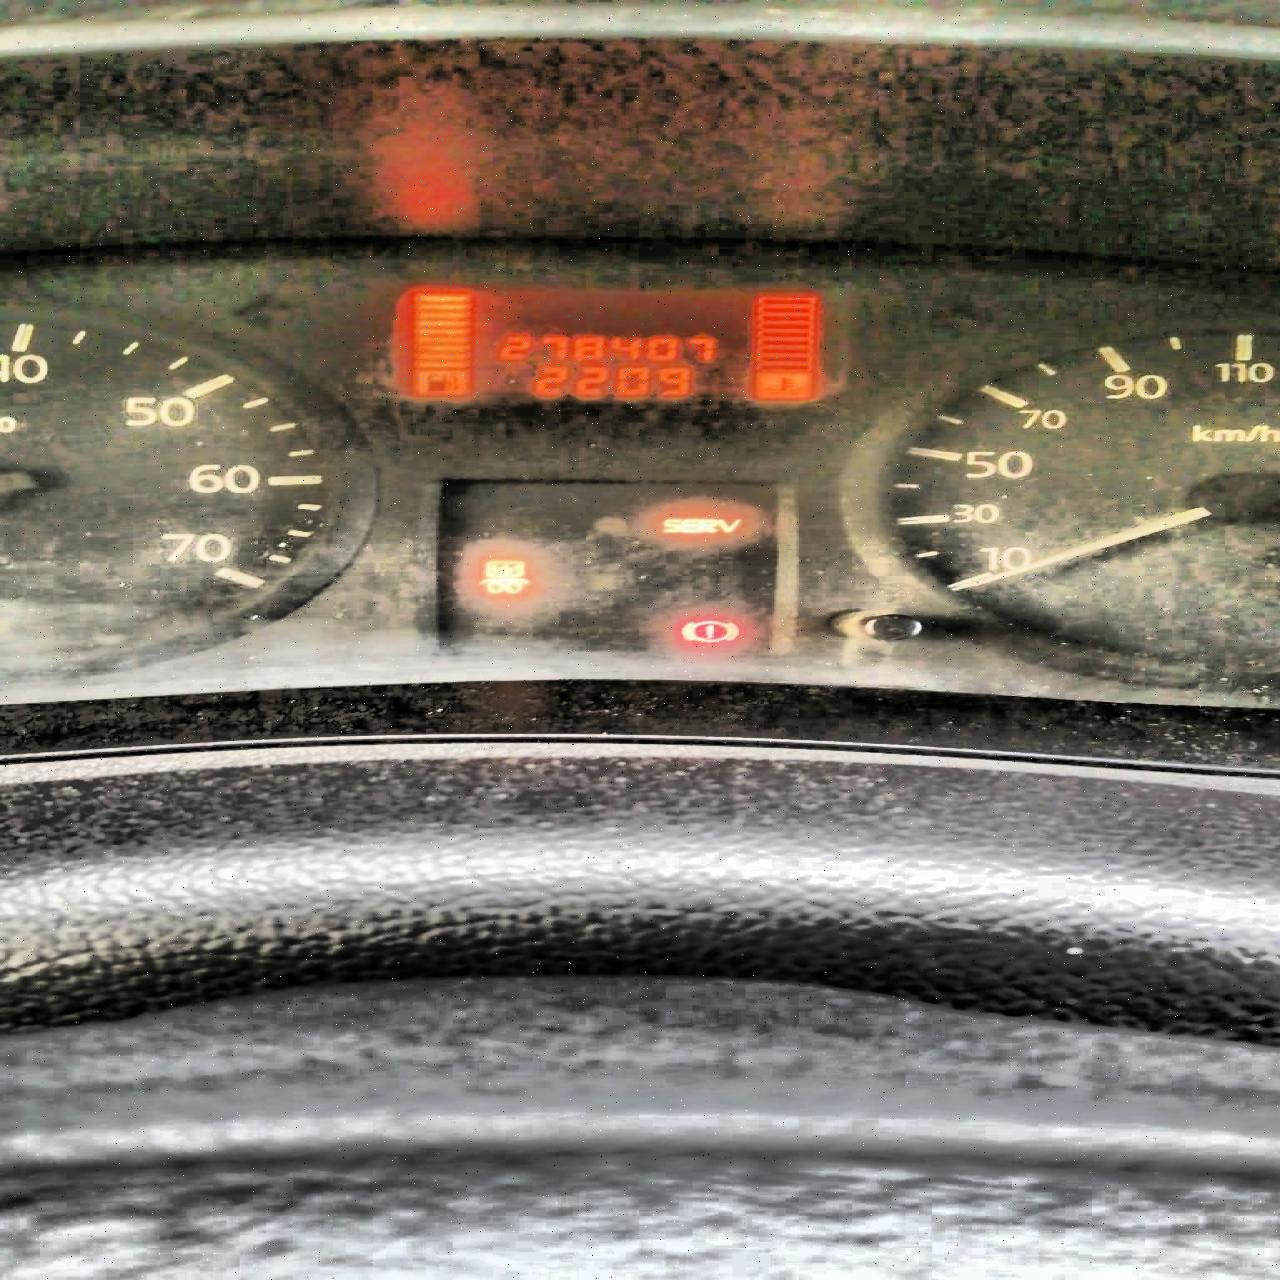0: (613, 366, 649, 395), (645, 338, 678, 360)
2: (532, 365, 567, 394), (572, 366, 607, 395), (498, 335, 531, 359)
4: (611, 338, 641, 359)
7: (688, 338, 714, 360), (542, 336, 566, 359)
8: (571, 338, 605, 360)
9: (655, 366, 689, 396)
odometer: (384, 280, 859, 408)
